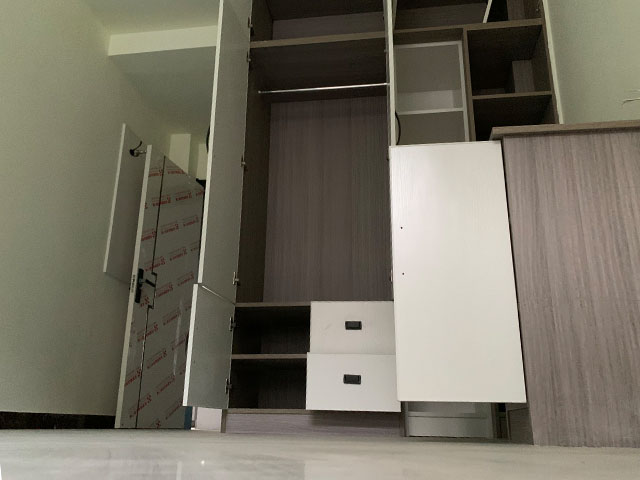cabinet: (395, 123, 640, 445), (181, 288, 395, 432)
